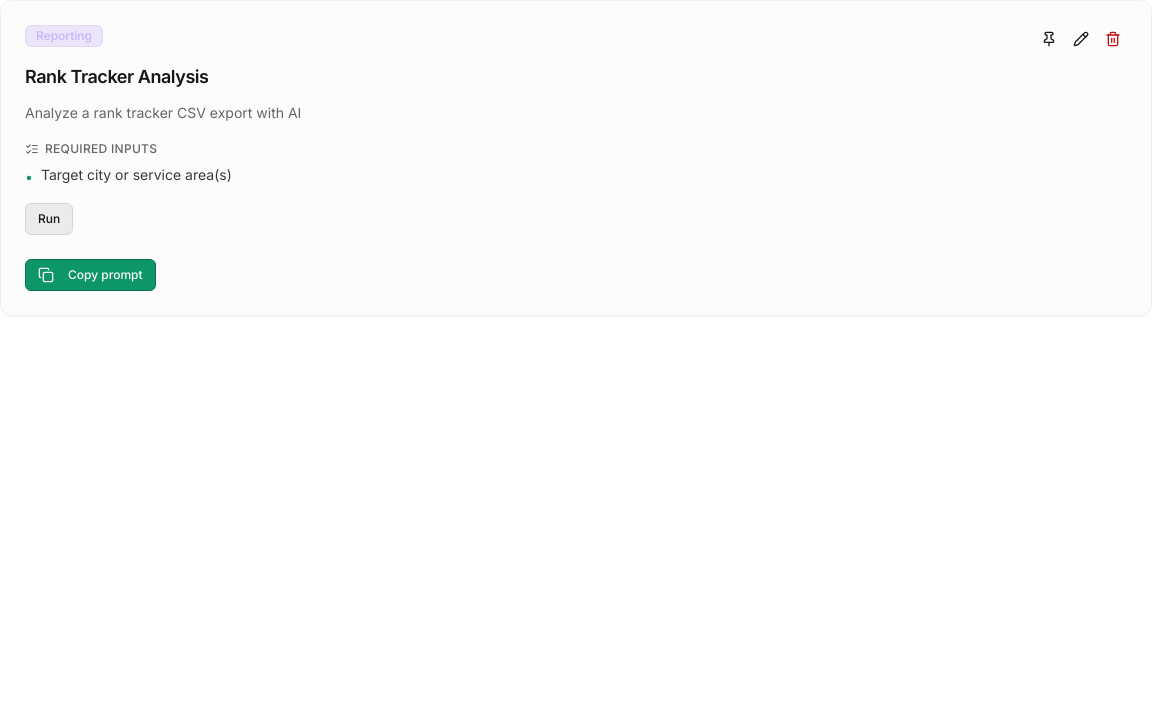
Test: WorkflowCard - Location Page Builder run › opens the inputs dialog with a client picker instead of running immediately
Click the button with test id "button-run-location-page-builder-7": x=49, y=218 [25,202,73,234]
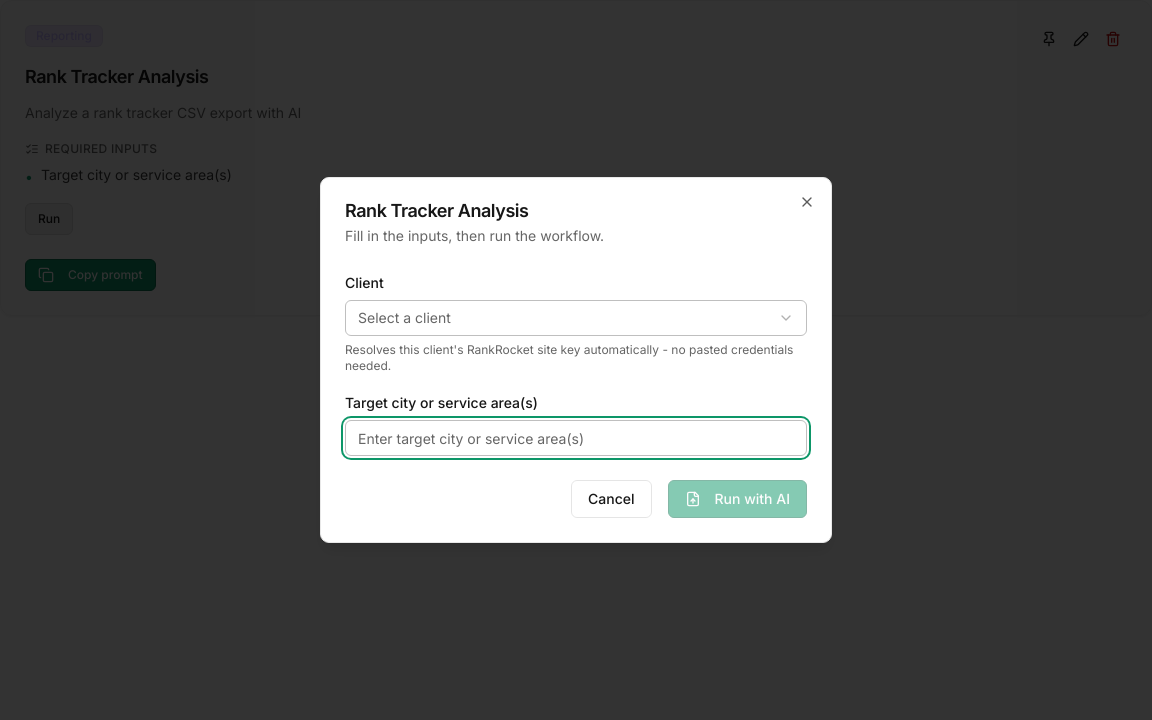
Check: the dropdown with test id "launch-client-picker" is shown, box [345,300,807,336]
